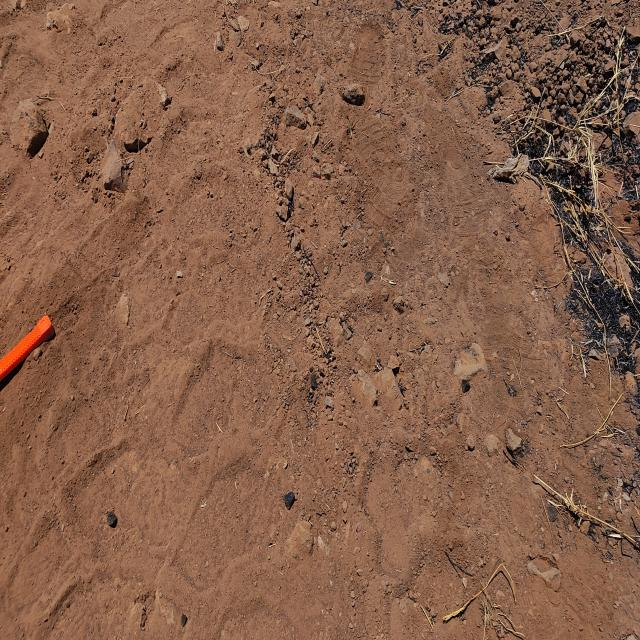Orange_hammer: (0, 314, 56, 381)
